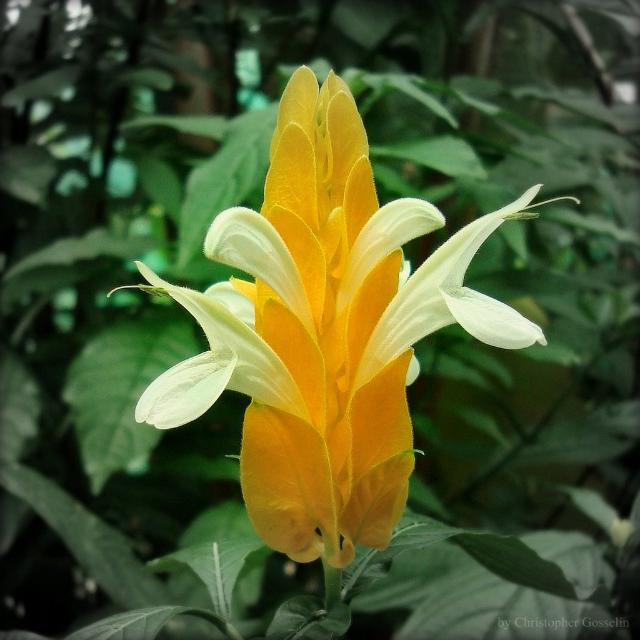Flower: (109, 66, 583, 572)
